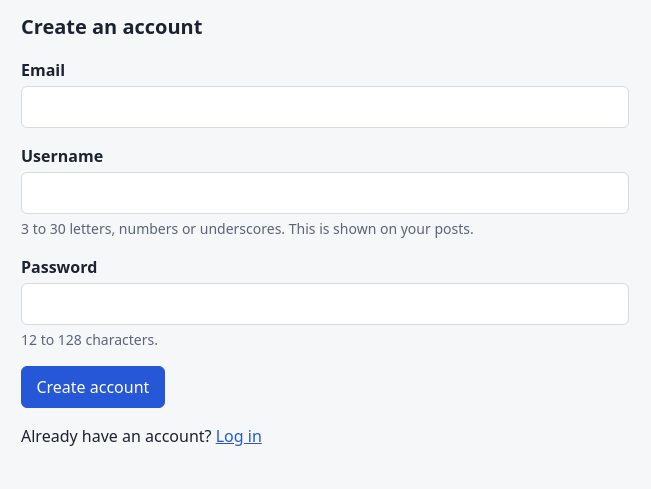
Test: RegisterForm › AT-R4: shows the right message for a username with a hyphen
Type "ada@example.com" into the field labelled "Email" at (325,107), box [21, 86, 629, 128]
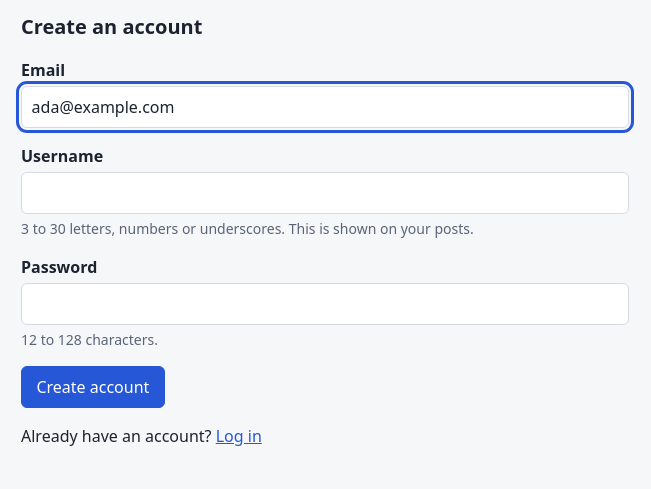
Type "ada-l" into the field labelled "Username" at (325,193), box [21, 172, 629, 214]
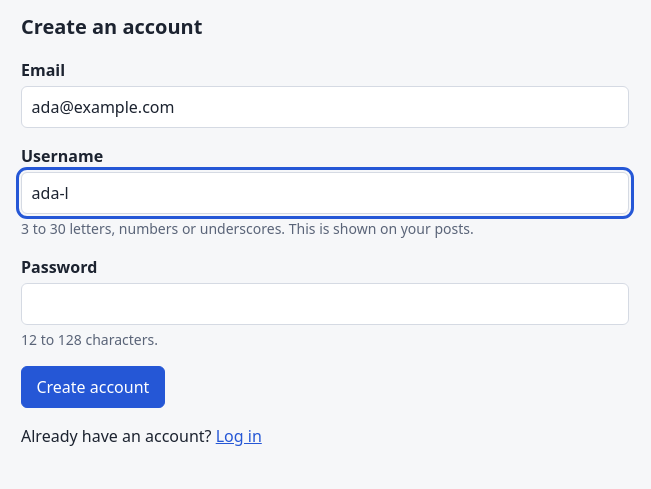
Type "correct horse battery staple" into the password field labelled "Password" at (325,304), box [21, 283, 629, 325]
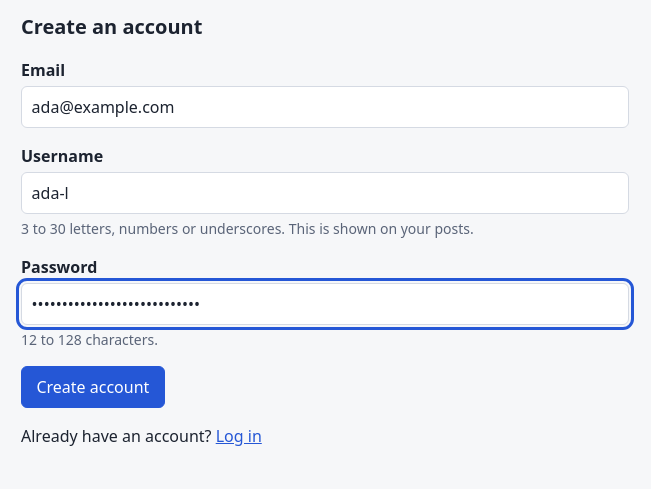
Click the button "Create account" at (93,387), box [21, 366, 165, 408]
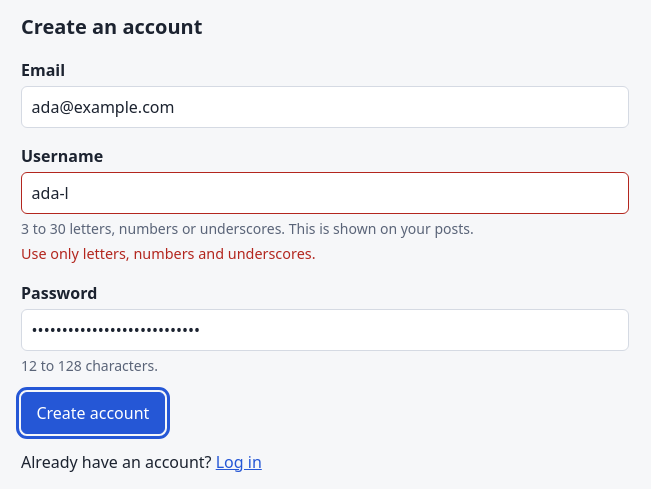
Now the text "Use only letters, numbers and underscores." is shown, box [21, 244, 316, 263]
